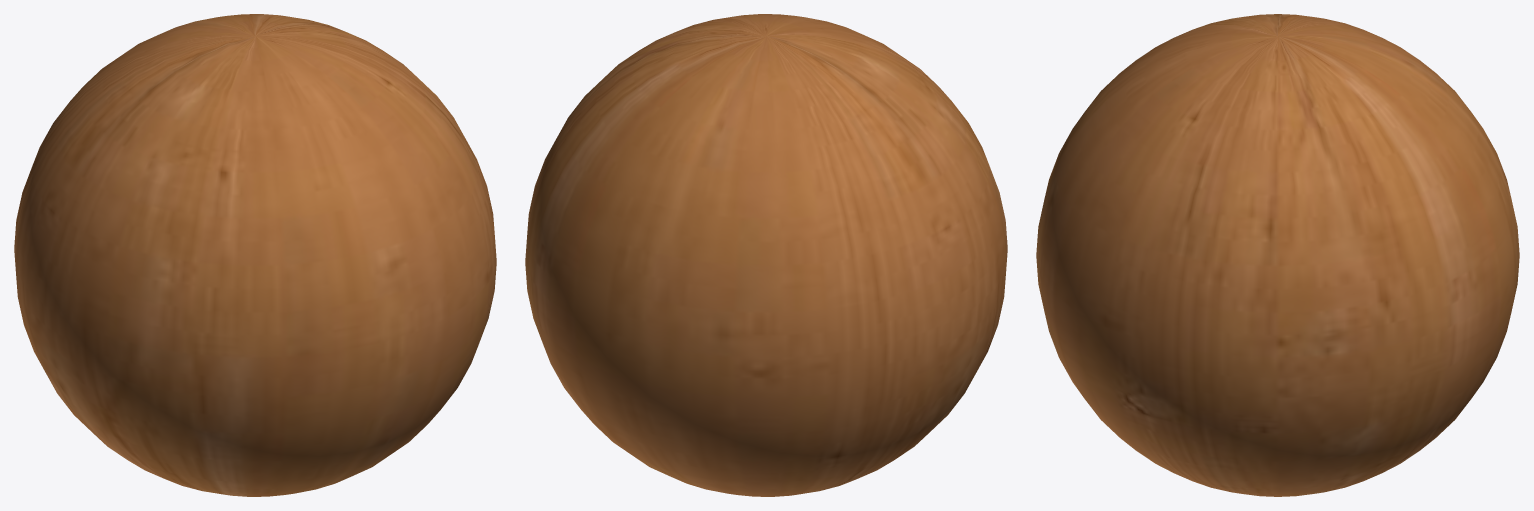
File: bob_wood.glb
3 renders of one model, left to right at view 1: azimuth 30°, elevation 25°; view 2: azimuth 150°, elevation 25°; view 3: azimuth 270°, elevation 25°, orthographic.
Parts seen in each view (by area): view 1: bob_wood; view 2: bob_wood; view 3: bob_wood.
Part boxes in pixels (bbox=[...]): bob_wood: bbox=[14, 14, 496, 496]; bob_wood: bbox=[525, 14, 1007, 496]; bob_wood: bbox=[1036, 14, 1519, 496].
Bounding box in the file's own units: 1 × 1 × 1.
Materials: 1 (1 with a texture image).
